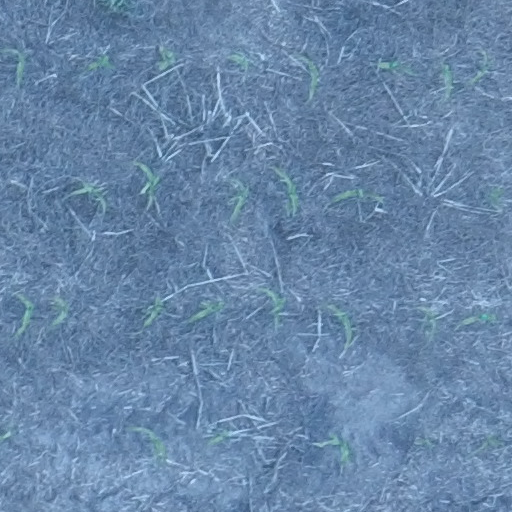planta: (318, 298, 356, 351), (127, 157, 163, 209), (127, 423, 170, 465), (269, 163, 302, 216), (315, 430, 355, 468), (294, 51, 323, 103), (68, 179, 111, 213), (255, 284, 289, 327), (10, 290, 37, 340), (463, 47, 496, 87), (227, 176, 252, 226), (185, 298, 227, 325), (329, 186, 385, 205), (415, 302, 441, 341), (140, 294, 167, 330), (436, 59, 457, 105), (47, 293, 71, 330), (455, 309, 500, 328), (374, 57, 416, 77), (154, 43, 179, 73), (82, 52, 117, 73), (475, 432, 504, 455), (486, 183, 507, 211), (224, 50, 251, 71), (205, 426, 231, 447)
